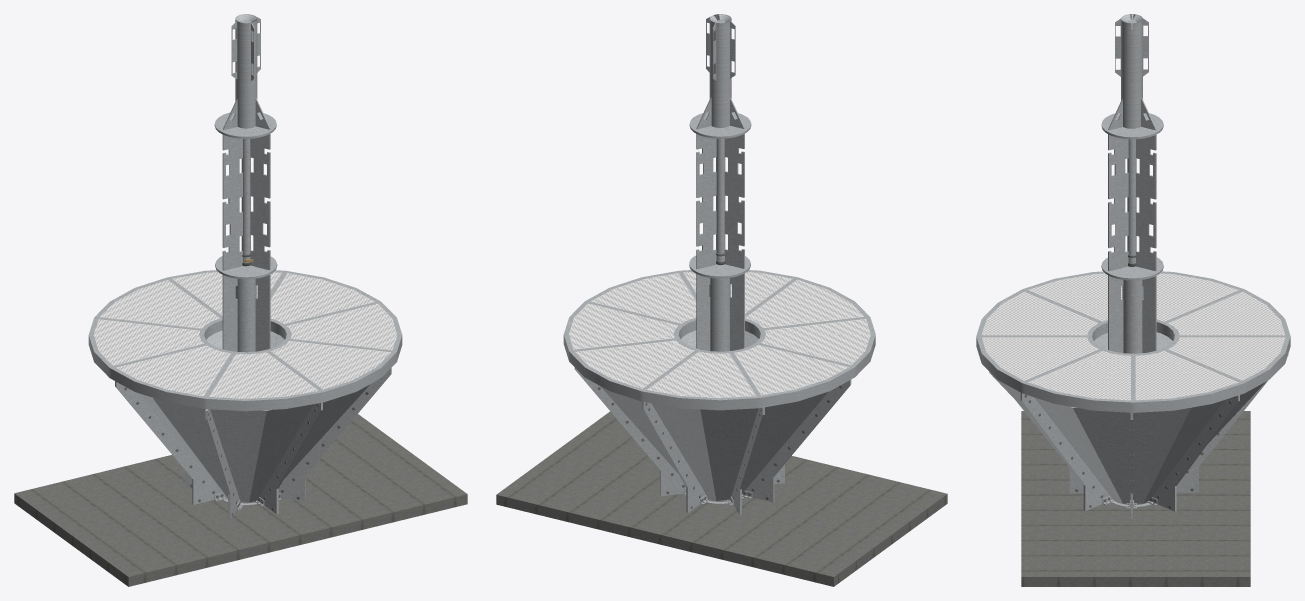
The model's file is cork-draco.glb.
The picture shows the model from 3 angles, left to right: view 1: azimuth 30°, elevation 25°; view 2: azimuth 150°, elevation 25°; view 3: azimuth 270°, elevation 25°; orthographic projection.
Parts seen in each view (by area): view 1: 3c71cb65-df02-4f42-a7b9-432154bf8d42; view 2: 3c71cb65-df02-4f42-a7b9-432154bf8d42; view 3: 3c71cb65-df02-4f42-a7b9-432154bf8d42.
Boxes of the visible parts, x1,y1,x2,y2 form: 3c71cb65-df02-4f42-a7b9-432154bf8d42: [14, 14, 467, 586]; 3c71cb65-df02-4f42-a7b9-432154bf8d42: [496, 14, 947, 586]; 3c71cb65-df02-4f42-a7b9-432154bf8d42: [976, 14, 1290, 586].
Bounding box in the file's own units: 5 × 7.04 × 4.
6 materials, 4 textured.
